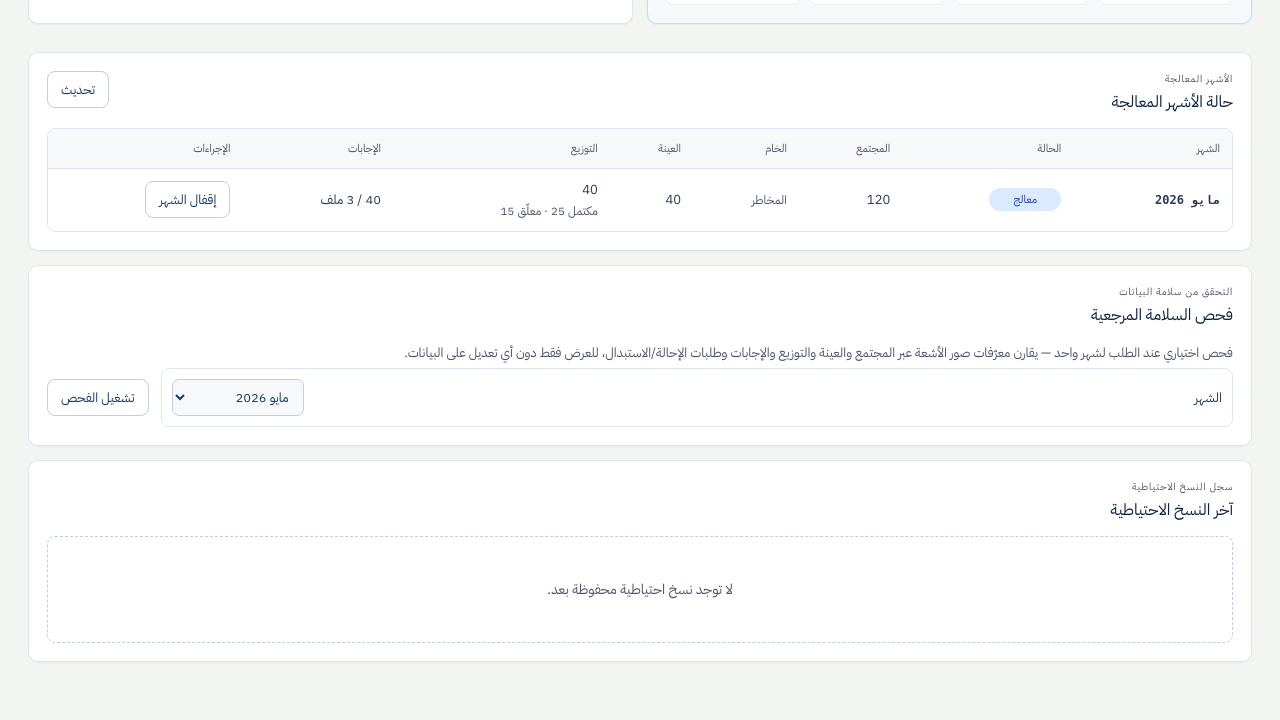
Archive dialog error paths (item 1) › MonthLockDialog (close) stays open and shows the failure message inside the modal when closeMonth fails
(page scrolled)
Click the button "إقفال الشهر". click: [188, 200]
box: [145,181,230,218]
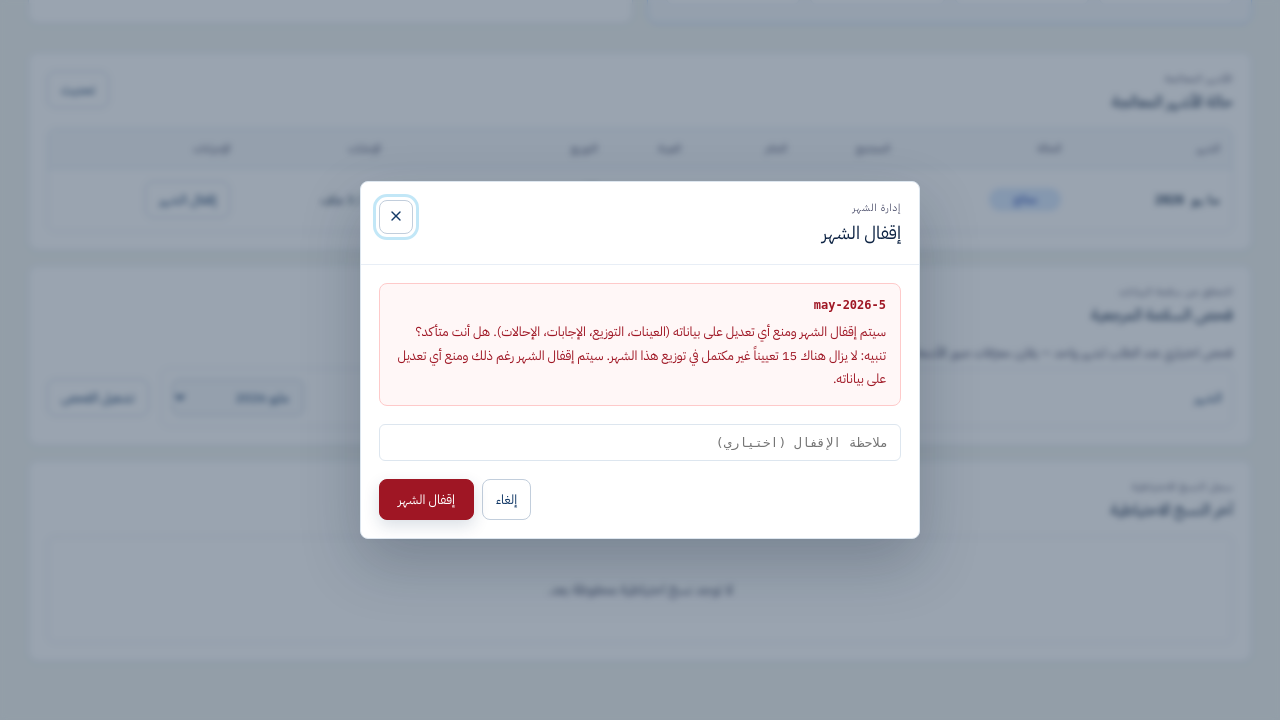
Expected: the text "إدارة الشهر" is shown, [852,200,901,215]
Click the button "إقفال الشهر". click: [426, 499]
box: [379,479,474,520]
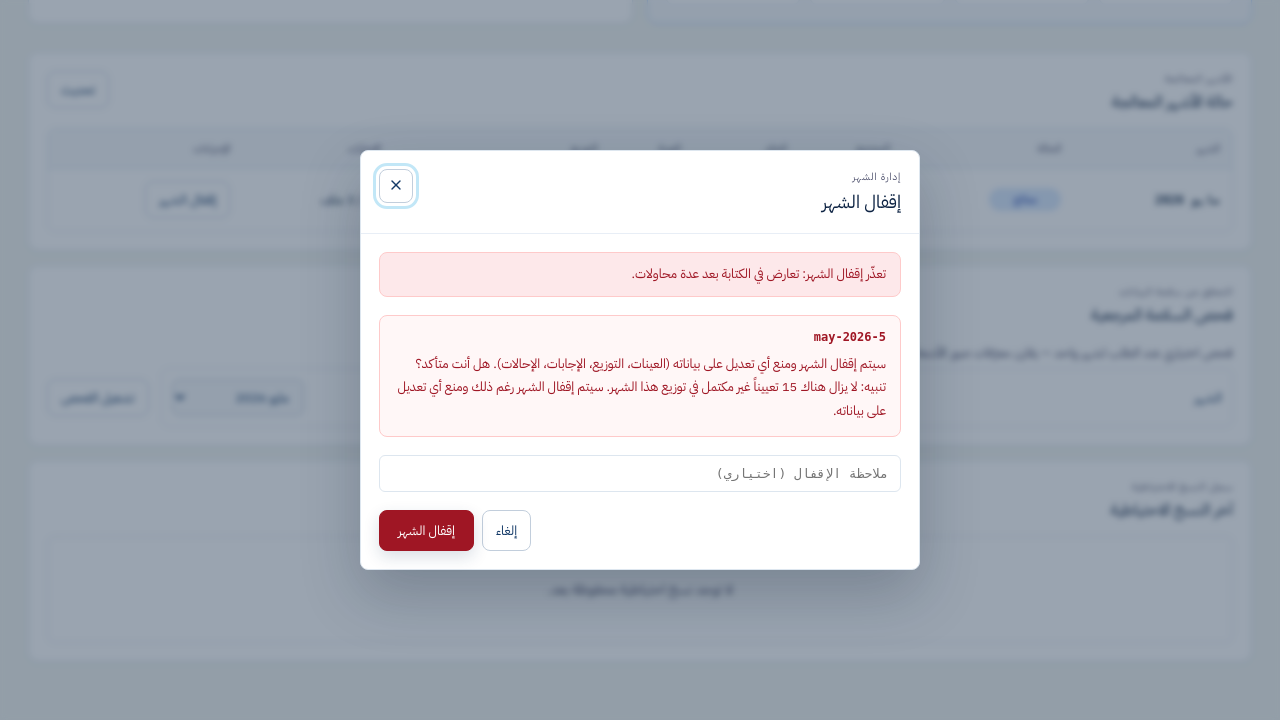
Expected: the dialog is shown
Expected: the message reads "تعذّر إقفال الشهر: تعارض في الكتابة بعد عدة محاولات.", [632,264,886,283]
